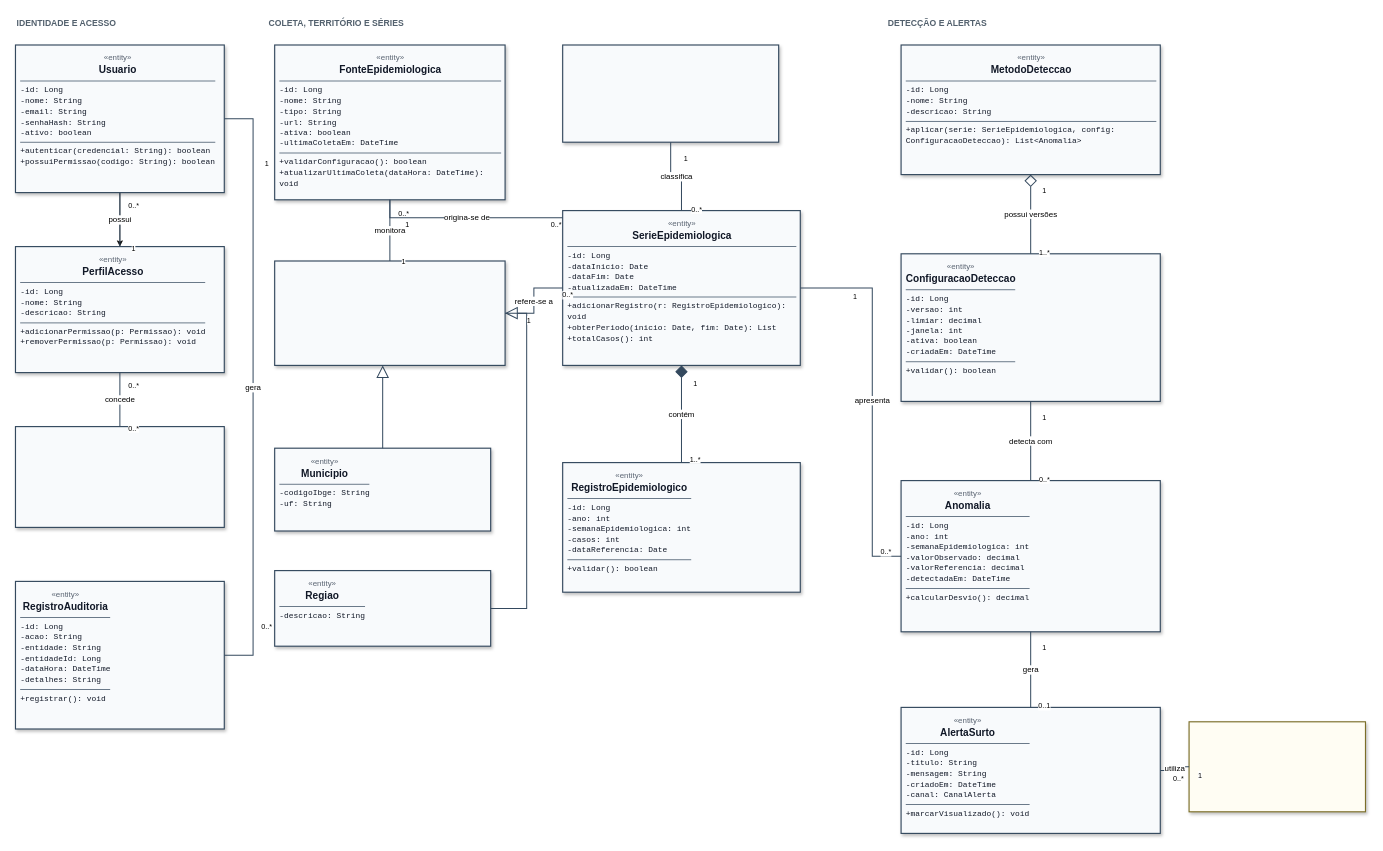
Image size: 1383x851. Some labels were removed from this diagram. Each missing label, with the centre of its shape:
"«abstract» RecorteGeografico -id: Long -nome: String +descricao(): String" belongs at (390,314).
"«entity» Agravo -id: Long -codigo: String -nome: String" belongs at (671,94).
"«entity» Permissao -id: Long -codigo: String -descricao: String" belongs at (120,478).
"«enum» CanalAlerta PAINEL EMAIL PAINEL_E_EMAIL" belongs at (1277,767).
